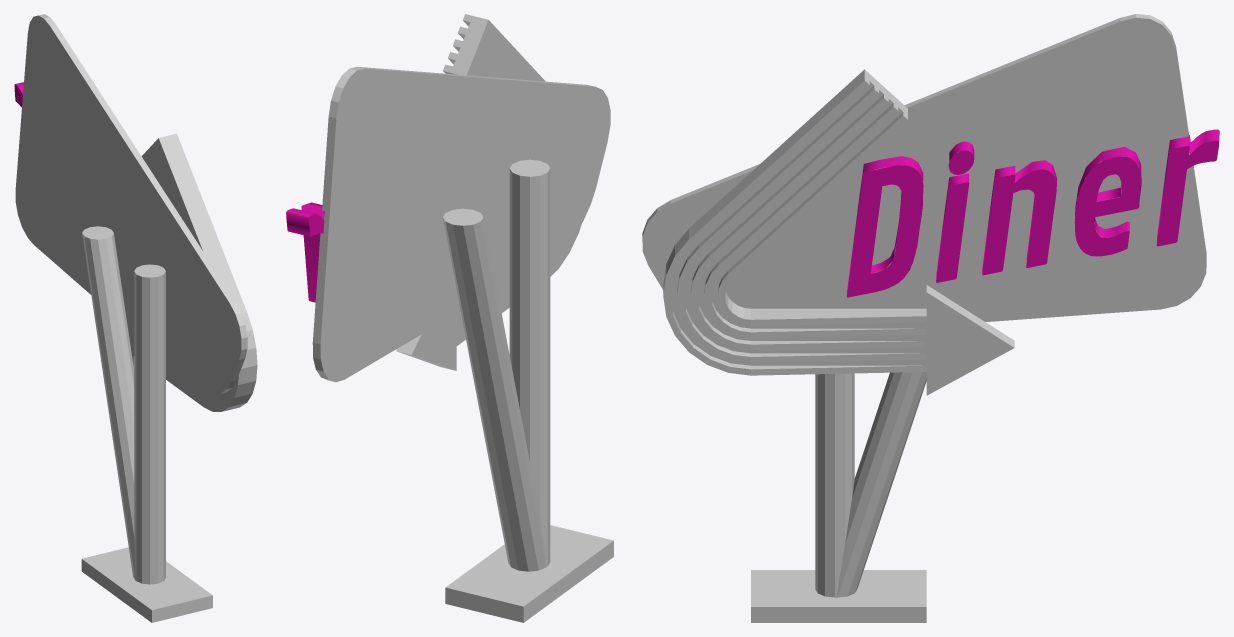
The model's file is DinerSign.fbx.
3 views of the same model, side by side, from view 1: azimuth 30°, elevation 25°; view 2: azimuth 150°, elevation 25°; view 3: azimuth 270°, elevation 25° (orthographic). The views are drawn at different scales.
Visible parts, largest first — view 1: Text; view 2: Text; view 3: Text.
Boxes of the visible parts, x1,y1,x2,y2 form: Text: [14, 14, 257, 622]; Text: [286, 14, 613, 622]; Text: [642, 14, 1219, 622].
Bounding box in the file's own units: 116 × 753 × 657.
